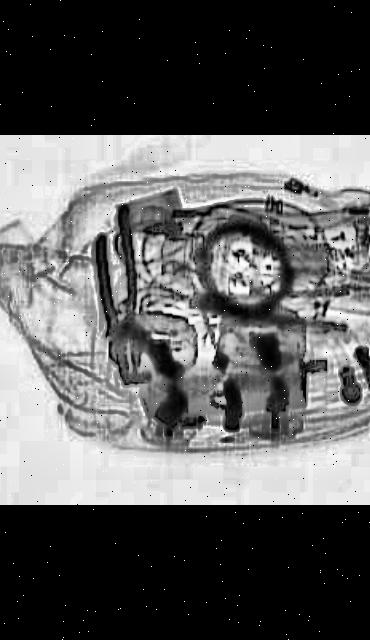Pliers: (86, 202, 146, 386)
